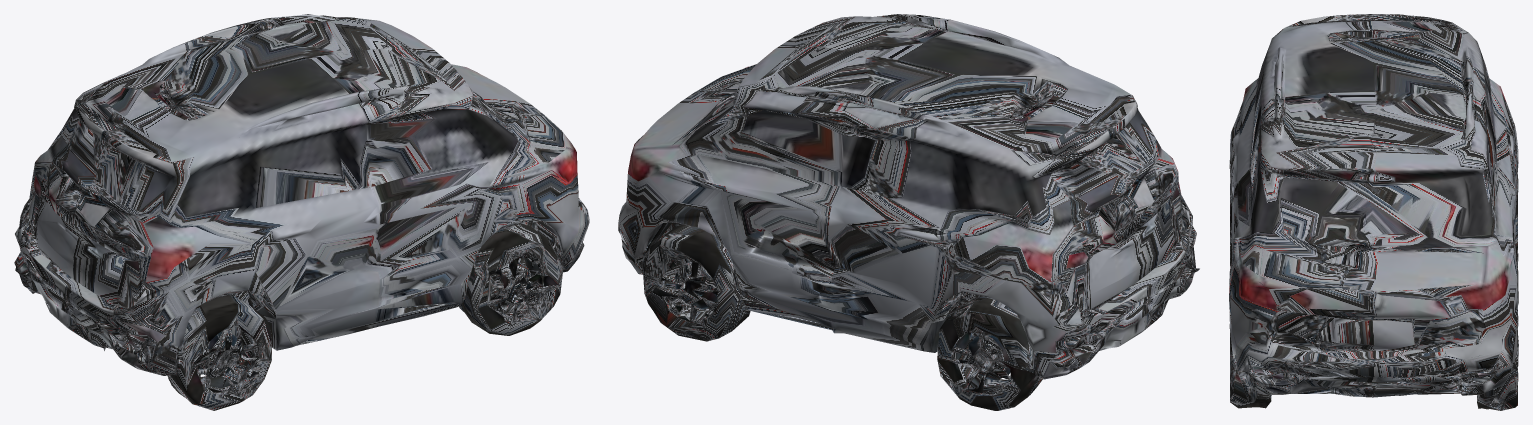
The model's file is car.glb.
3 views of the same model, side by side, from view 1: azimuth 30°, elevation 25°; view 2: azimuth 150°, elevation 25°; view 3: azimuth 270°, elevation 25° (orthographic). The views are drawn at different scales.
Bounding box in the file's own units: 0.9999 × 0.5282 × 0.5402.
Materials: 1 (1 with a texture image).
